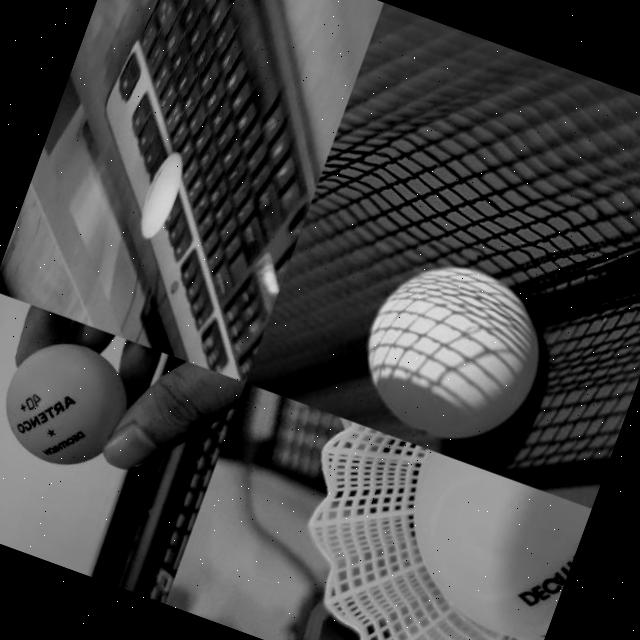ping-pong-ball: (344, 242, 562, 460), (374, 448, 591, 640), (0, 326, 140, 480), (131, 148, 189, 244)
